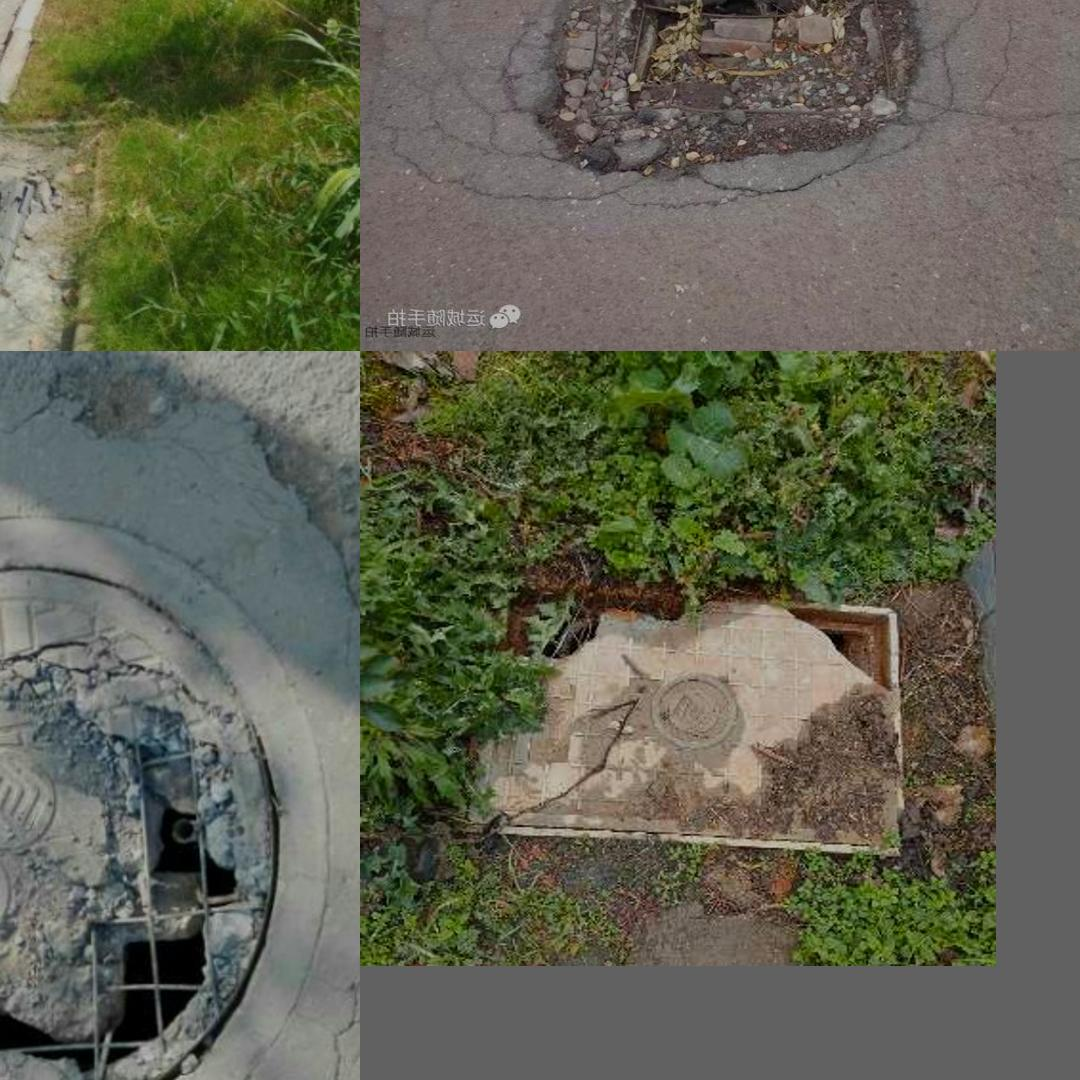broke: (0, 517, 329, 1080), (444, 589, 904, 858), (487, 0, 983, 225), (0, 164, 47, 271)
